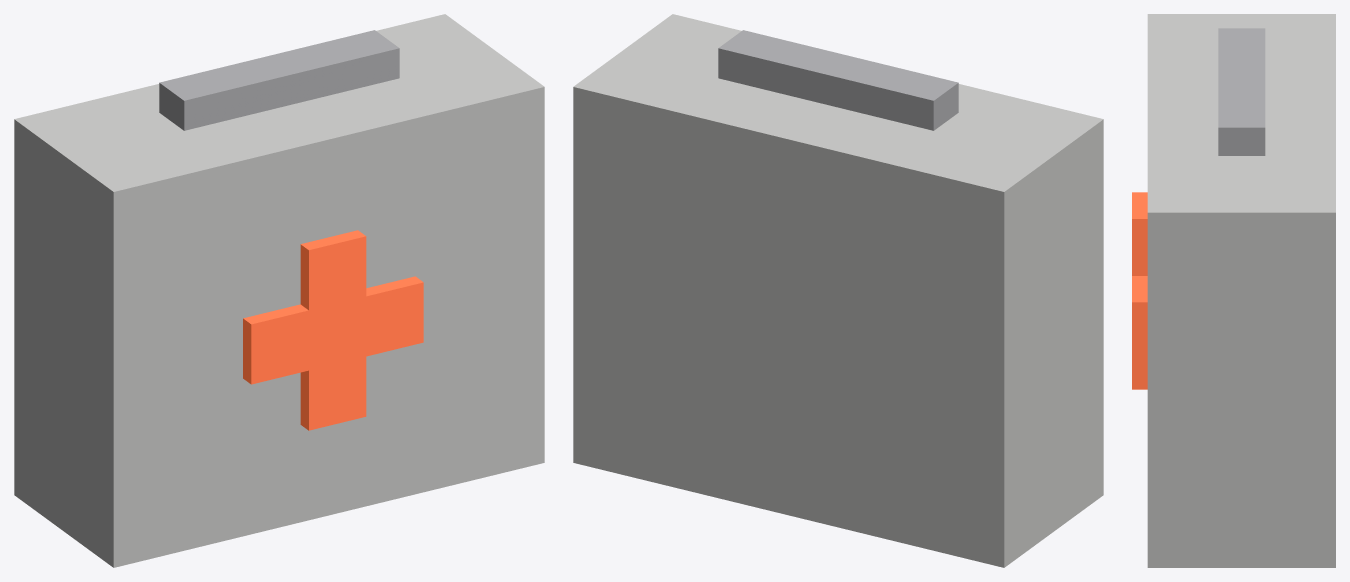
Rendered from first_aid_kit.glb.
3 renders of one model, left to right at view 1: azimuth 30°, elevation 25°; view 2: azimuth 150°, elevation 25°; view 3: azimuth 270°, elevation 25°, orthographic. The views are drawn at different scales.
Parts seen in each view (by area): view 1: body, handle, cross_v, cross_h; view 2: body, handle; view 3: body, handle, cross_v, cross_h.
Part boxes in pixels (x1,y1,x2,y2): body: (14, 14, 544, 567); handle: (159, 30, 399, 130); cross_v: (300, 230, 366, 430); cross_h: (243, 276, 423, 384); body: (573, 14, 1103, 567); handle: (718, 30, 958, 130); body: (1147, 14, 1335, 567); handle: (1218, 28, 1265, 155); cross_v: (1132, 192, 1147, 389); cross_h: (1132, 276, 1147, 359).
Bounding box in the file's own units: 0.3 × 0.275 × 0.13.
